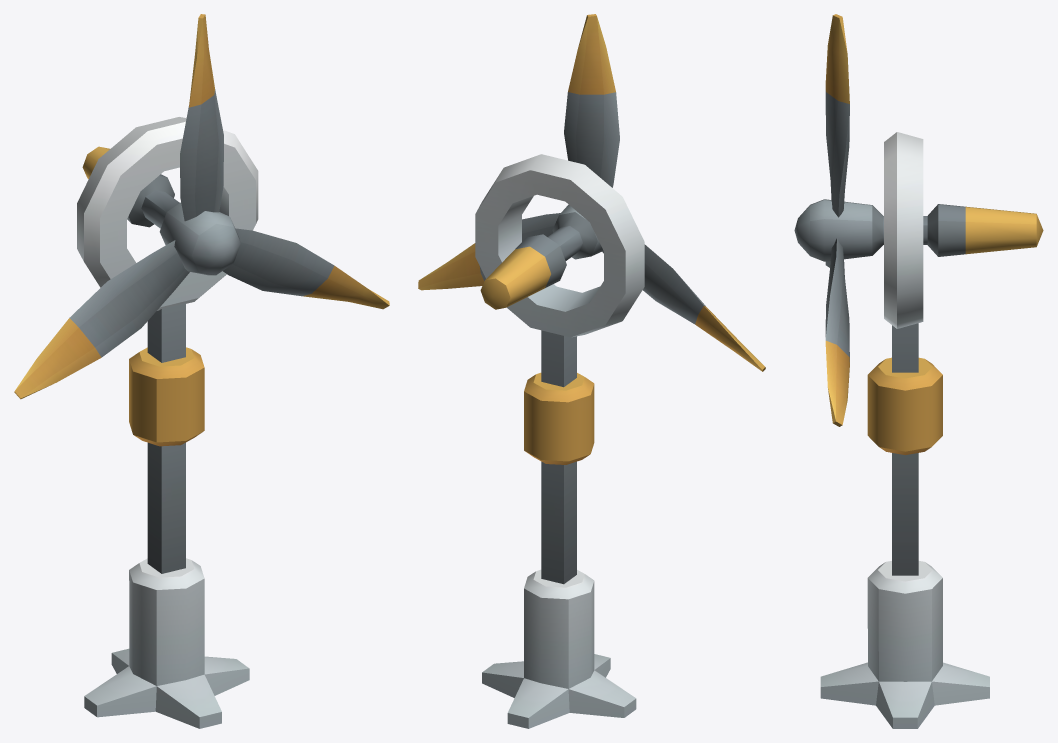
File: windturbine-tall.glb
3 views of the same model, side by side, from view 1: azimuth 30°, elevation 25°; view 2: azimuth 150°, elevation 25°; view 3: azimuth 270°, elevation 25° (orthographic). The views are drawn at different scales.
Visible parts, largest first — view 1: windturbine_tall_fan, windturbine_tall; view 2: windturbine_tall_fan, windturbine_tall; view 3: windturbine_tall, windturbine_tall_fan.
Boxes of the visible parts, bbox=[...] form: windturbine_tall_fan: bbox=[14, 14, 389, 399]; windturbine_tall: bbox=[84, 303, 249, 728]; windturbine_tall_fan: bbox=[418, 14, 765, 371]; windturbine_tall: bbox=[482, 330, 636, 728]; windturbine_tall: bbox=[820, 323, 989, 728]; windturbine_tall_fan: bbox=[794, 14, 1043, 426].
Bounding box in the file's own units: 1.67 × 3 × 0.9998.
Materials: 1 (1 with a texture image).
